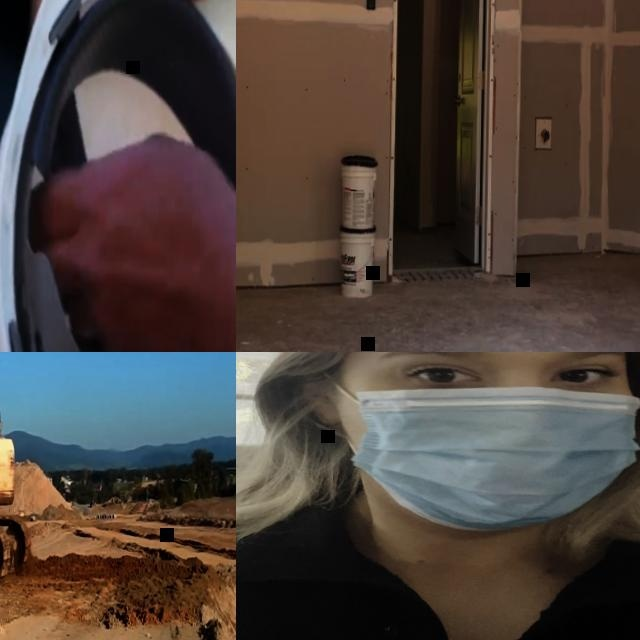Hardhat: (0, 0, 236, 352)
Mask: (362, 388, 640, 525)
NO-Safety Vest: (236, 509, 640, 640)
Person: (236, 352, 640, 640), (24, 0, 236, 352)
